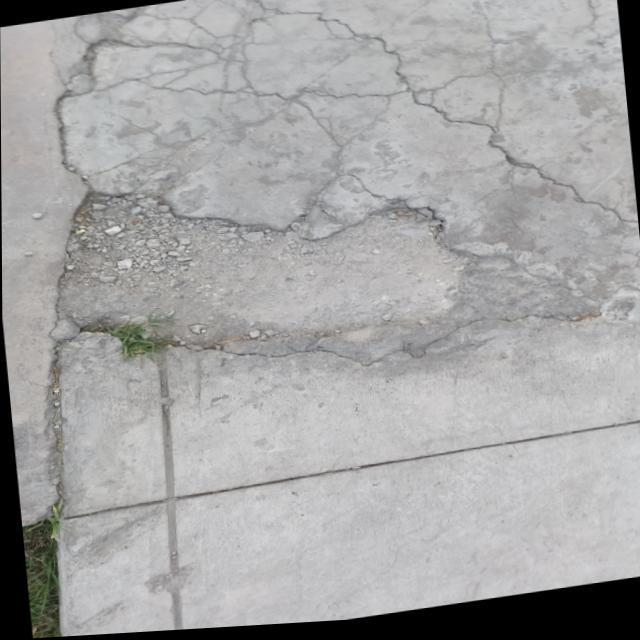hole: (36, 126, 608, 414)
